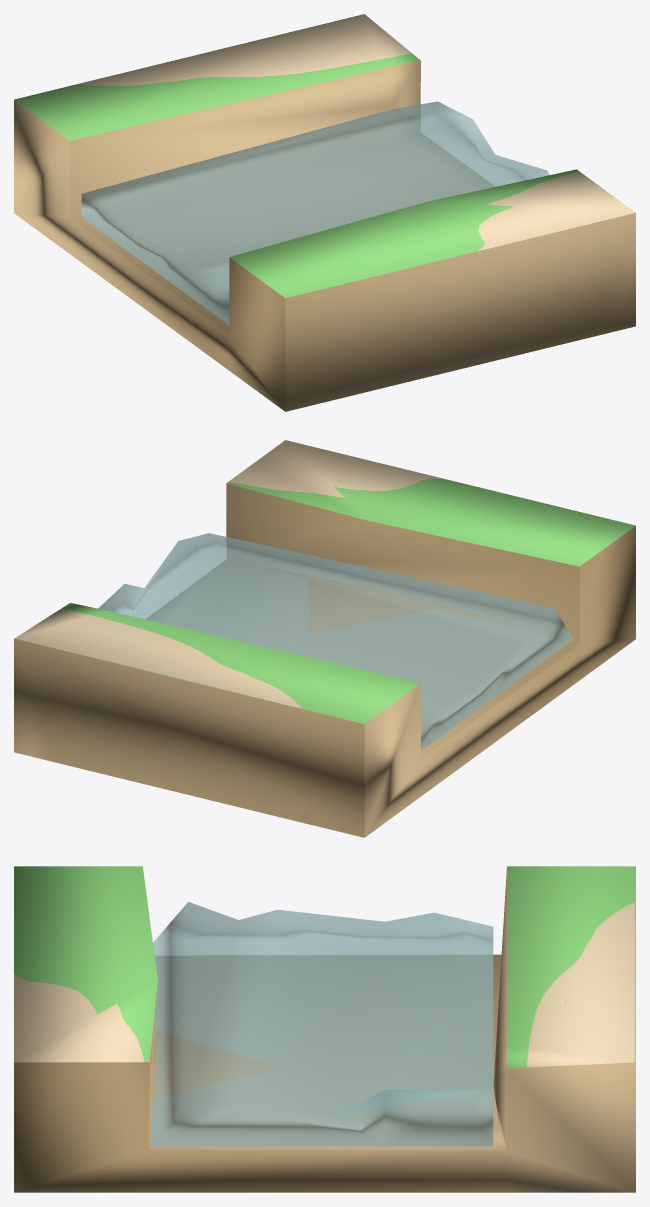
The model's file is ground_side2.fbx.
3 renders of one model, top to bottom at view 1: azimuth 30°, elevation 25°; view 2: azimuth 150°, elevation 25°; view 3: azimuth 270°, elevation 25°, orthographic. The views are drawn at different scales.
Visible parts, largest first — view 1: baseright, river; view 2: baseright, river; view 3: baseright, river.
Part boxes in pixels (x1,y1,x2,y2): baseright: (14,14,635,411); river: (81,101,549,324); baseright: (14,440,635,837); river: (98,533,573,750); baseright: (14,866,635,1192); river: (151,902,493,1146).
Size of the model in its own units: 10.77 by 3.27 by 14.08.
Materials: 3 (2 with a texture image).
